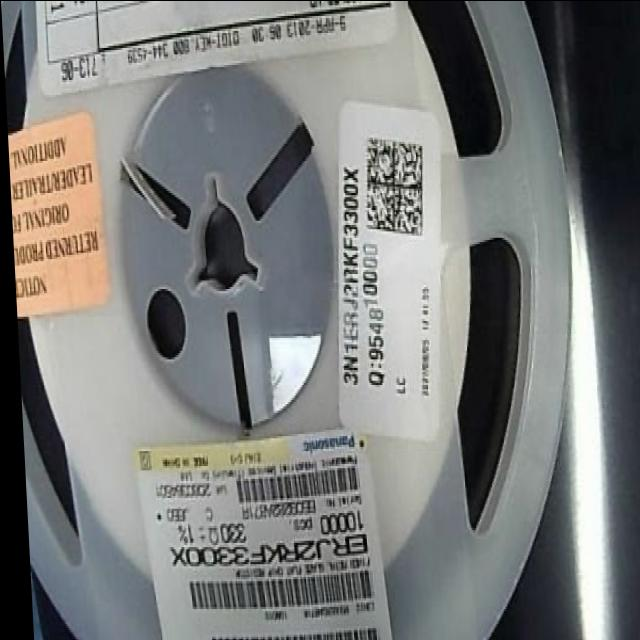datamatrix: (358, 132, 427, 240)
